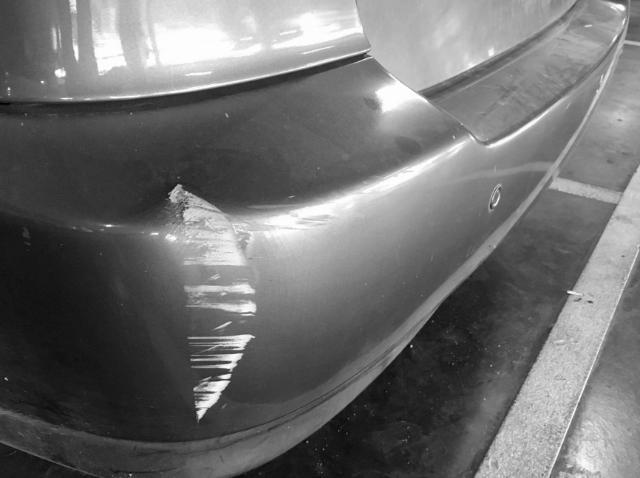Bumper: (141, 155, 323, 434)
